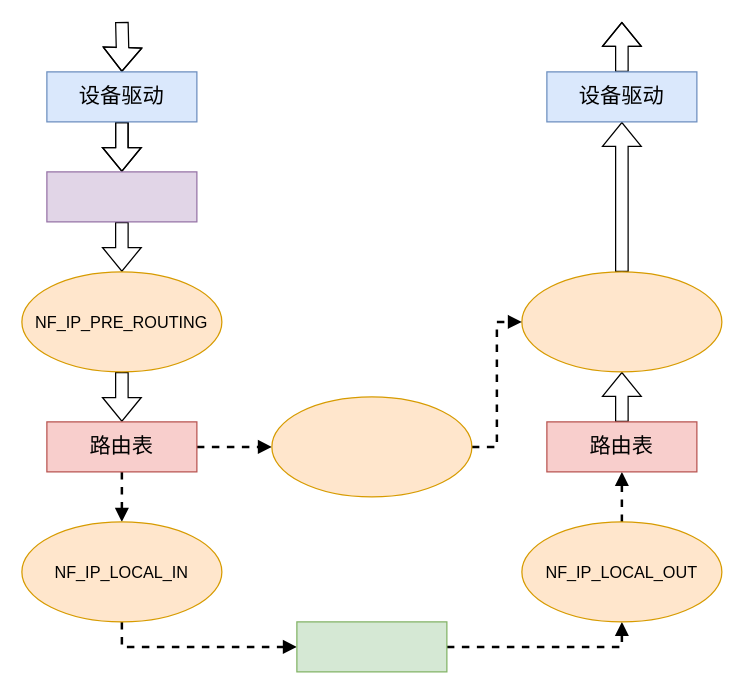
Some shapes in this 744 by 694 pixel diagram are drawn without their labels. Here are the shapes that lost their labels. From the top down, the box of each, then its label:
(46, 171, 197, 222): 数据校验
(521, 271, 722, 372): NF_IP_POST_ROUTING
(271, 396, 472, 497): NF_IP_FORWARD
(296, 621, 447, 672): 本机应用
